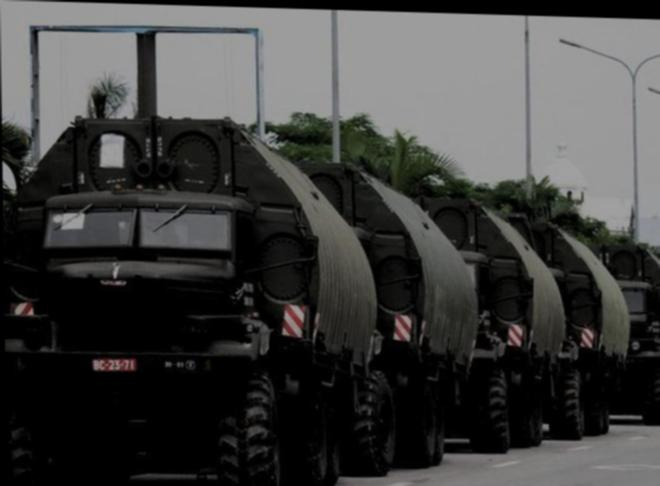License_Plate: (90, 355, 141, 380)
